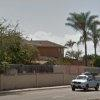Palm tree: (57, 6, 100, 55)
